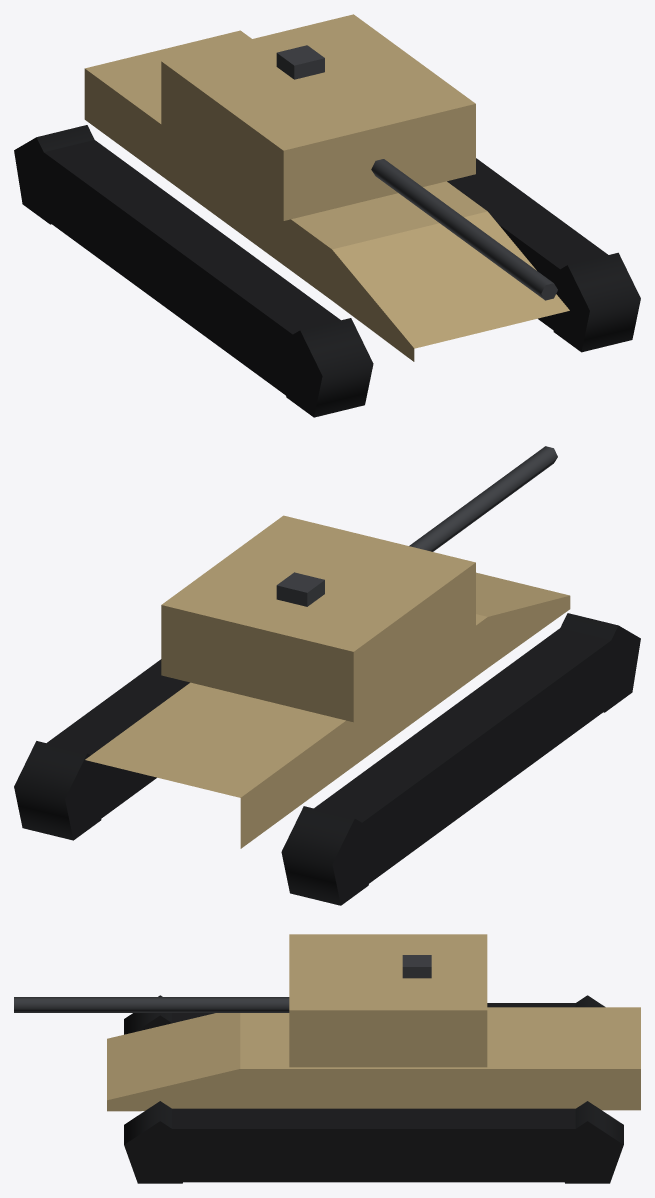
Rendered from veh_ground_tank_heavy_a07_lod1.glb.
3 views of the same model, one above another, from view 1: azimuth 30°, elevation 25°; view 2: azimuth 150°, elevation 25°; view 3: azimuth 270°, elevation 25° (orthographic). The views are drawn at different scales.
Visible parts, largest first — view 1: turret, body, track_r, track_l; view 2: turret, track_r, body, track_l; view 3: body, track_l, turret, track_r.
Part boxes in pixels (x1,y1,x2,y2): turret: (161, 14, 557, 300); body: (84, 30, 569, 361); track_r: (14, 125, 373, 417); track_l: (447, 158, 640, 352); turret: (161, 446, 557, 722); track_r: (281, 613, 640, 905); body: (85, 572, 570, 848); track_l: (14, 659, 189, 840); body: (107, 955, 640, 1111); track_l: (124, 1101, 623, 1183); turret: (14, 934, 487, 1067); track_r: (124, 995, 605, 1034).
Size of the model in its own units: 4.14 by 2.45 by 8.71.
